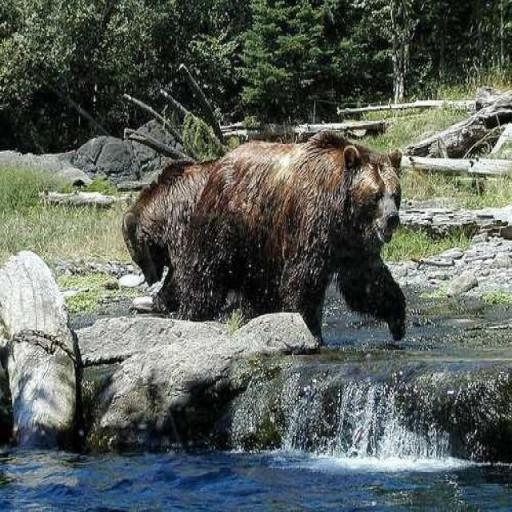Bear: (121, 128, 406, 346)
